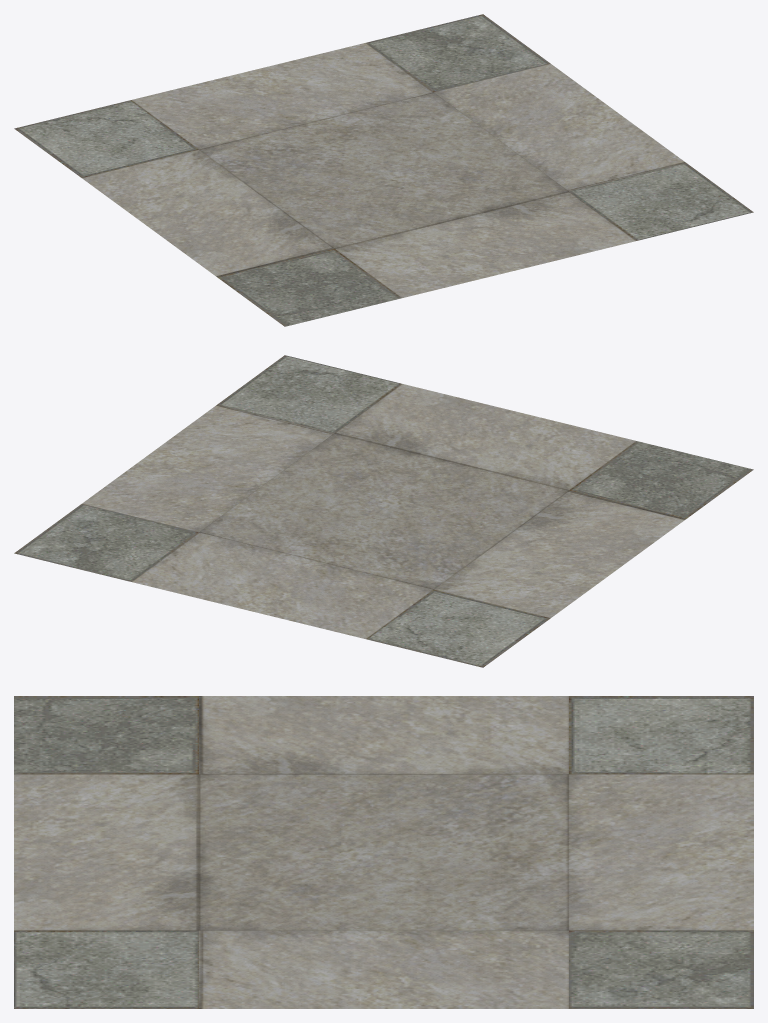
The model's file is floor_mix_2x2_c.fbx.
3 views of the same model, one above another, from view 1: azimuth 30°, elevation 25°; view 2: azimuth 150°, elevation 25°; view 3: azimuth 270°, elevation 25° (orthographic). The views are drawn at different scales.
Parts seen in each view (by area): view 1: floor_mix_2x2_c; view 2: floor_mix_2x2_c; view 3: floor_mix_2x2_c.
Part boxes in pixels (left/top/right/bottom): floor_mix_2x2_c: left=14, top=14, right=753, bottom=326; floor_mix_2x2_c: left=14, top=355, right=753, bottom=667; floor_mix_2x2_c: left=14, top=696, right=753, bottom=1008.
Bounding box in the file's own units: 200 × 2.88e-20 × 200.
